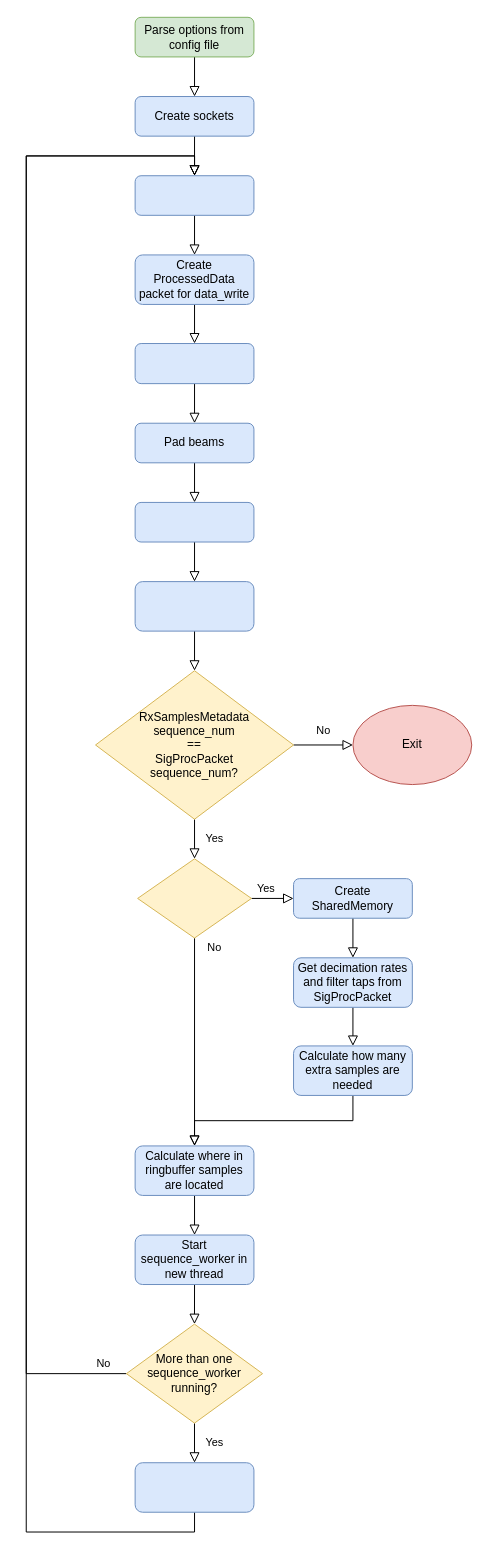
Some shapes in this 489 by 1559 pixel diagram are drawn without their labels. The shapes that lost their labels are listed below. From the top down, each one's box as (x1, y1, x2, y2) in pixels, then its label:
(134, 175, 254, 215): Get SigProcPacket from radar_control
(134, 343, 254, 384): Parse channels from SigProcPacket
(134, 501, 254, 542): Request data from driver
(134, 581, 254, 631): Receive RxSamplesMetadata from driver
(137, 858, 251, 938): First time?
(134, 1462, 254, 1512): Wait for oldest sequence_worker to end
